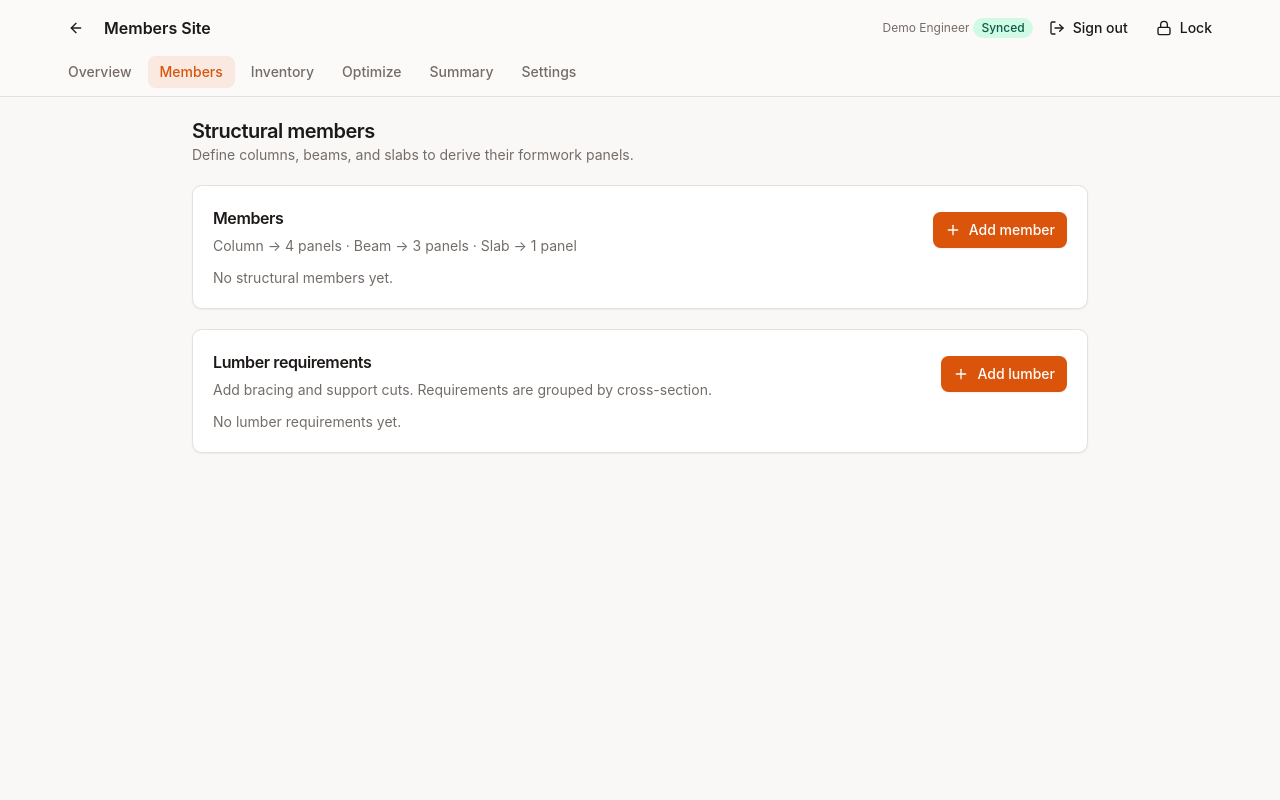
Test case: StructuralMembersScreen › adds a column and shows its decomposed panels
Expected: the heading "Structural members" is shown, [192,119,375,143]
Step 1. Click the button "Add member" → (1000, 230), box [933,212,1067,248]
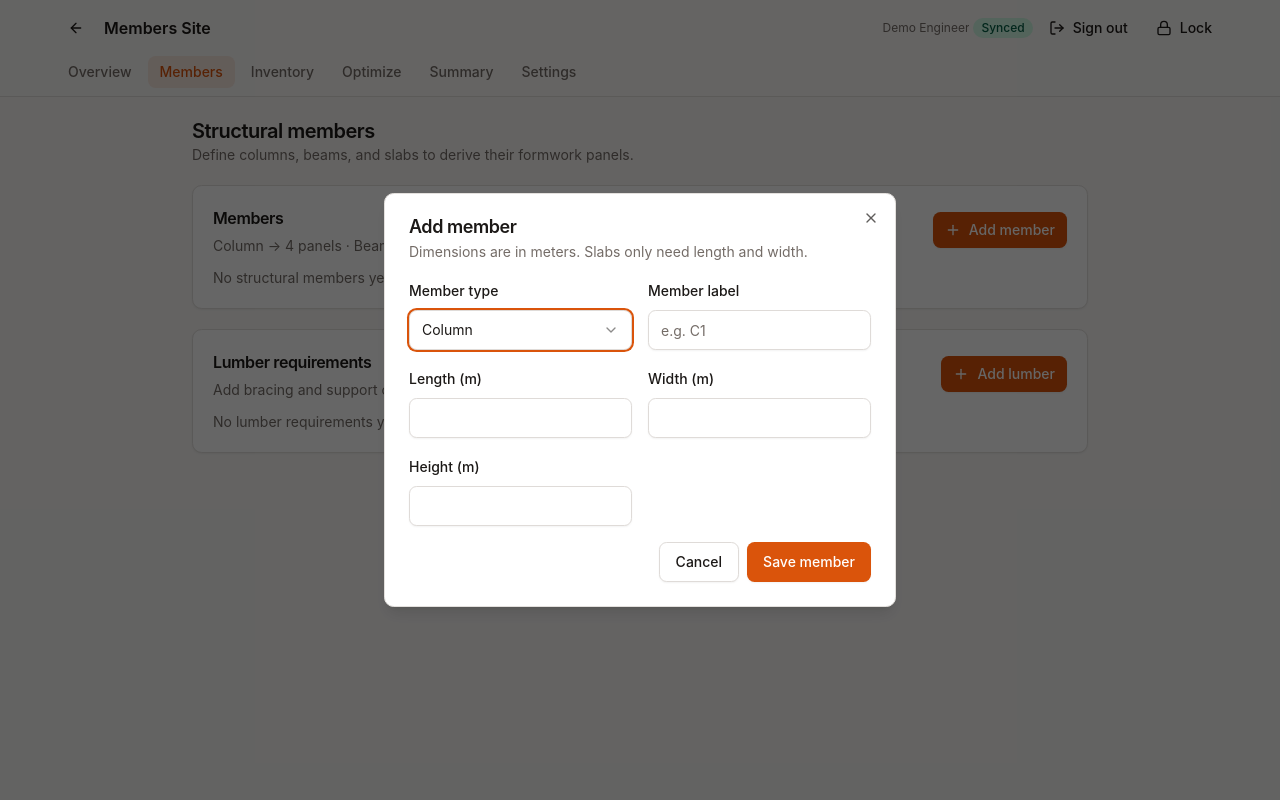
Step 2. Type "C1" into the field labelled "Member label" → (760, 330), box [648,310,871,350]
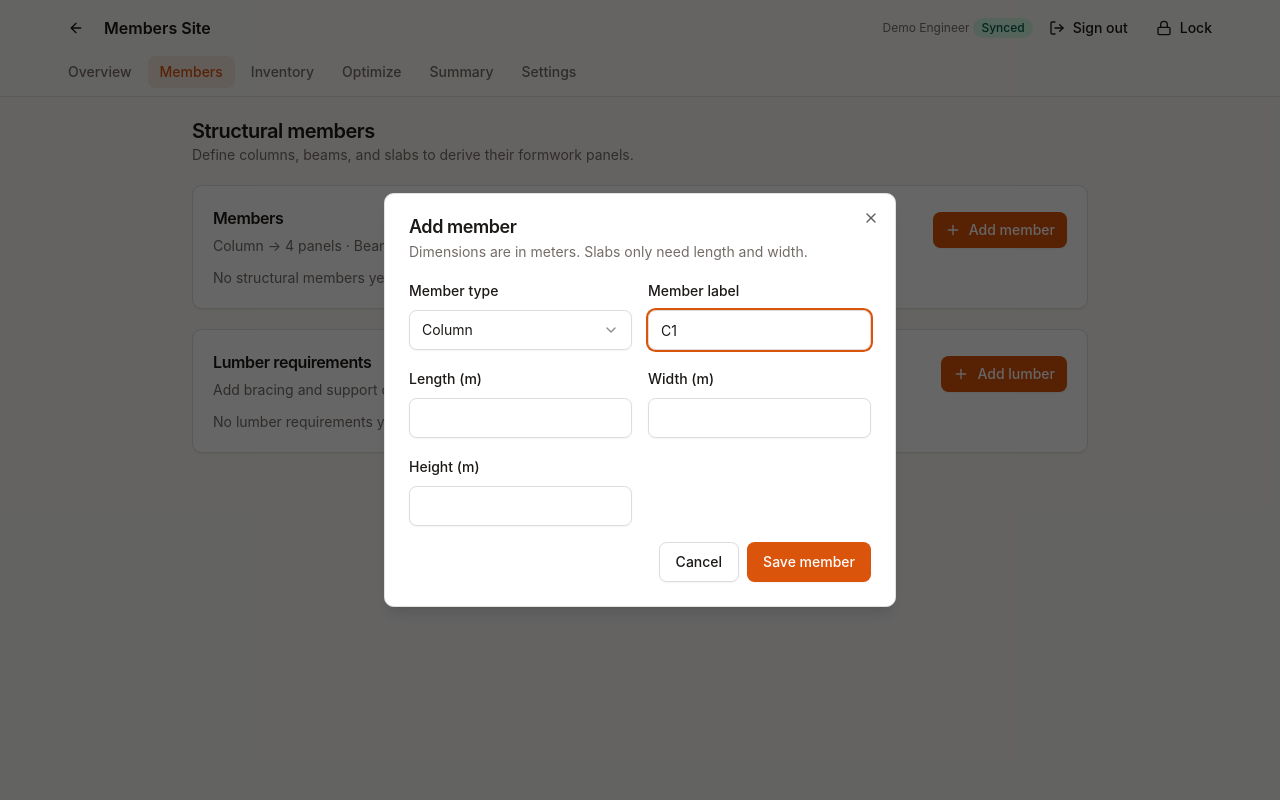
Step 3. Type "0.4" into the number field labelled "Length (m)" → (520, 418), box [409,398,632,438]
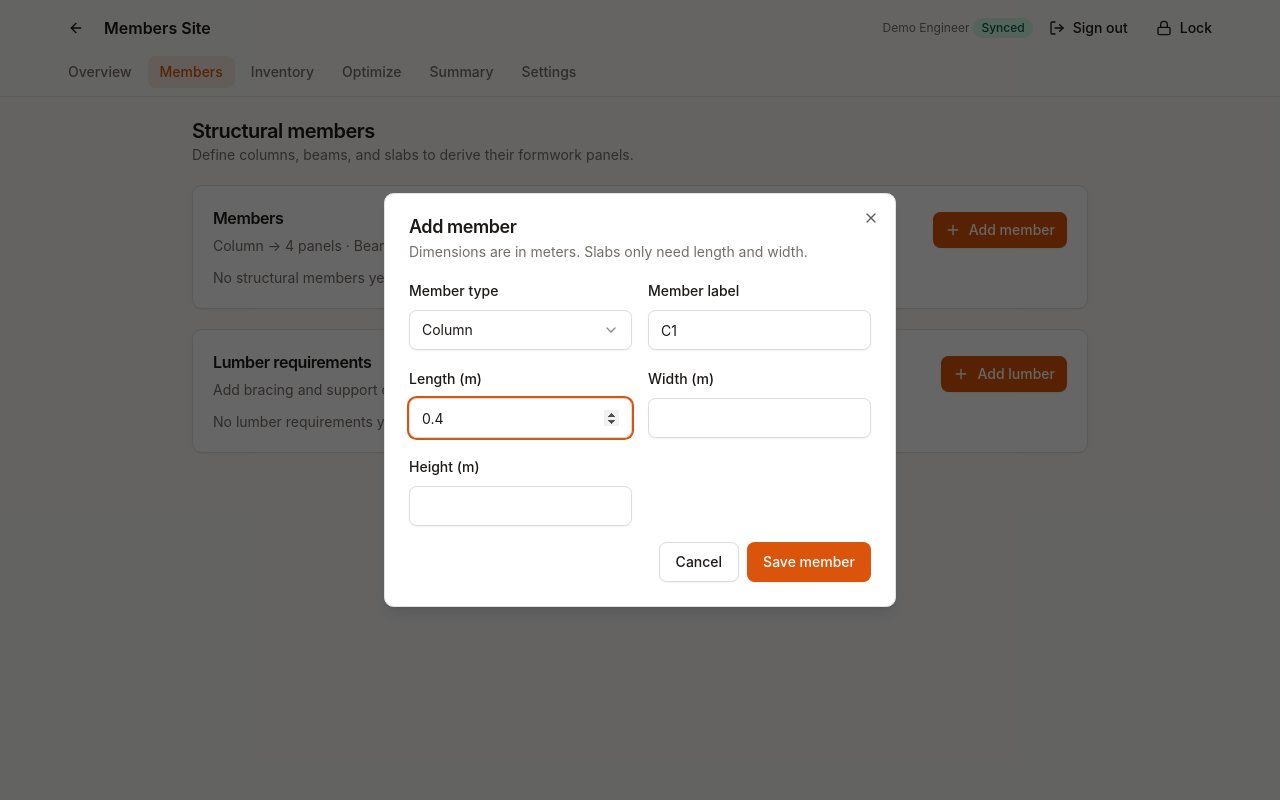
Step 4. Type "0.25" into the number field labelled "Width (m)" → (760, 418), box [648,398,871,438]
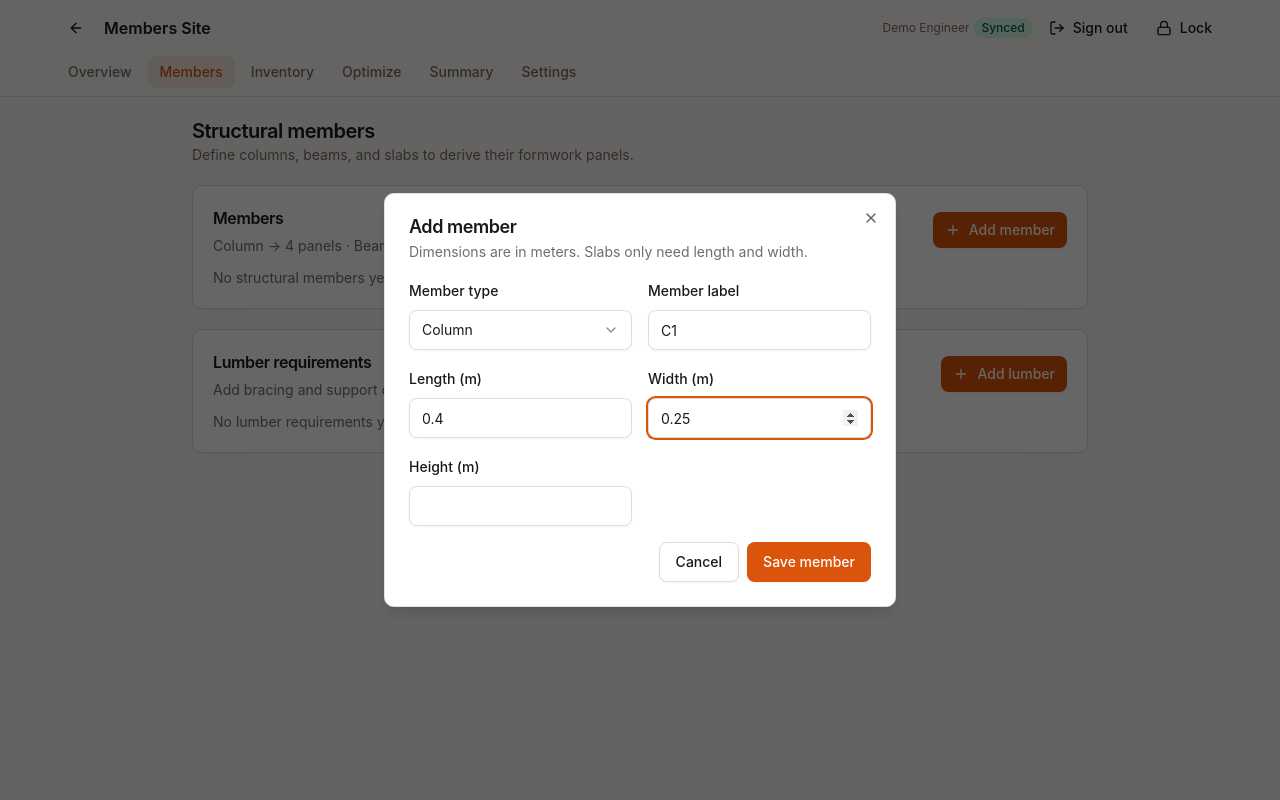
Step 5. Type "3" into the number field labelled "Height (m)" → (520, 506), box [409,486,632,526]
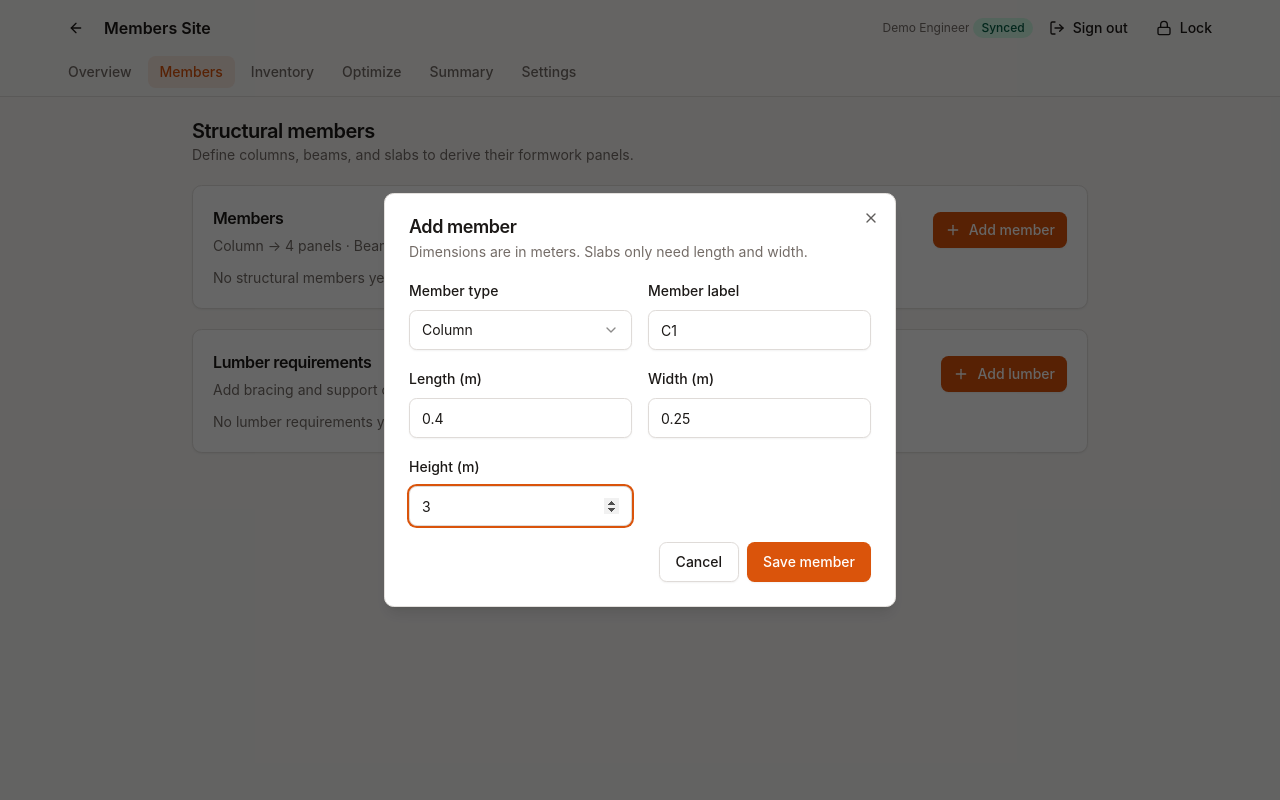
Step 6. Click the button "Save member" → (809, 562), box [747,542,871,582]
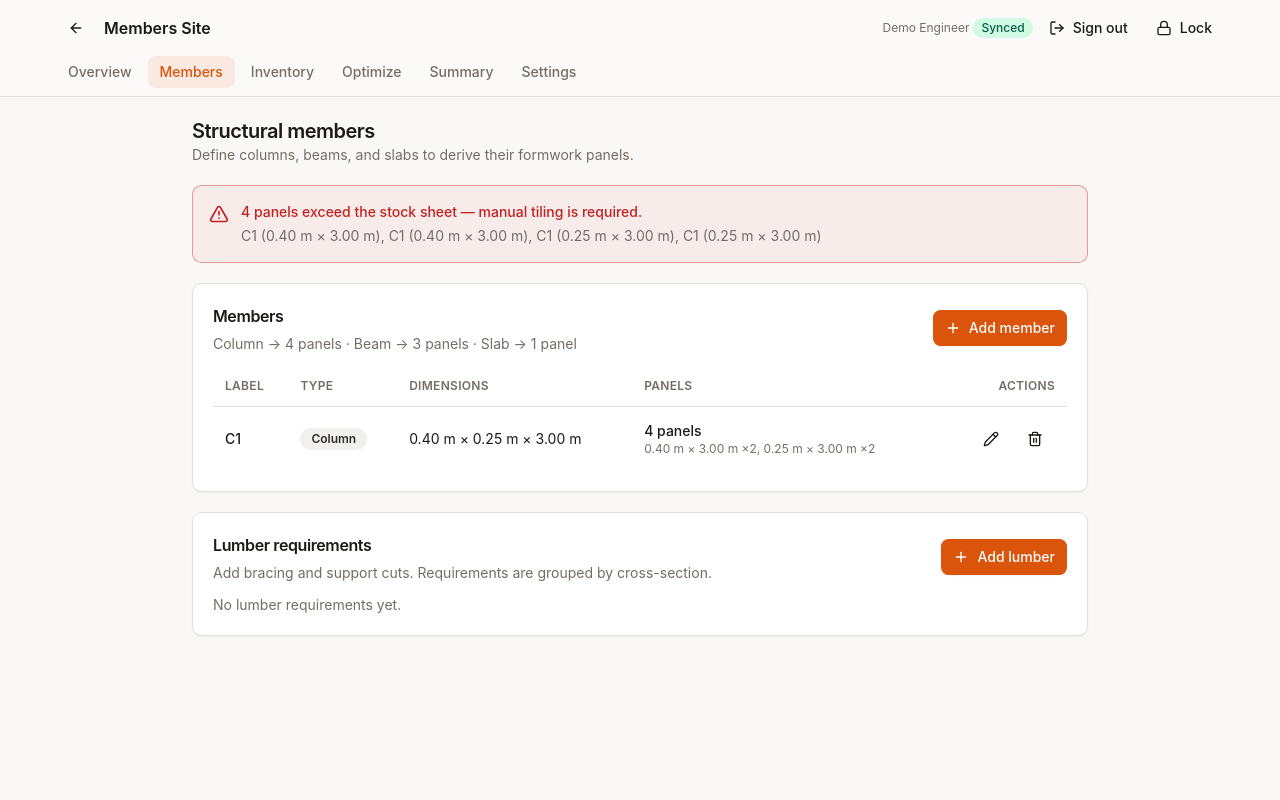
Expected: the text "C1" is shown, [213,406,288,470]
Expected: the text "4 panels" is shown, [644,422,702,438]
Expected: the text "0.40 m × 3.00 m ×2, 0.25 m × 3.00 m ×2" is shown, [644,440,875,456]
